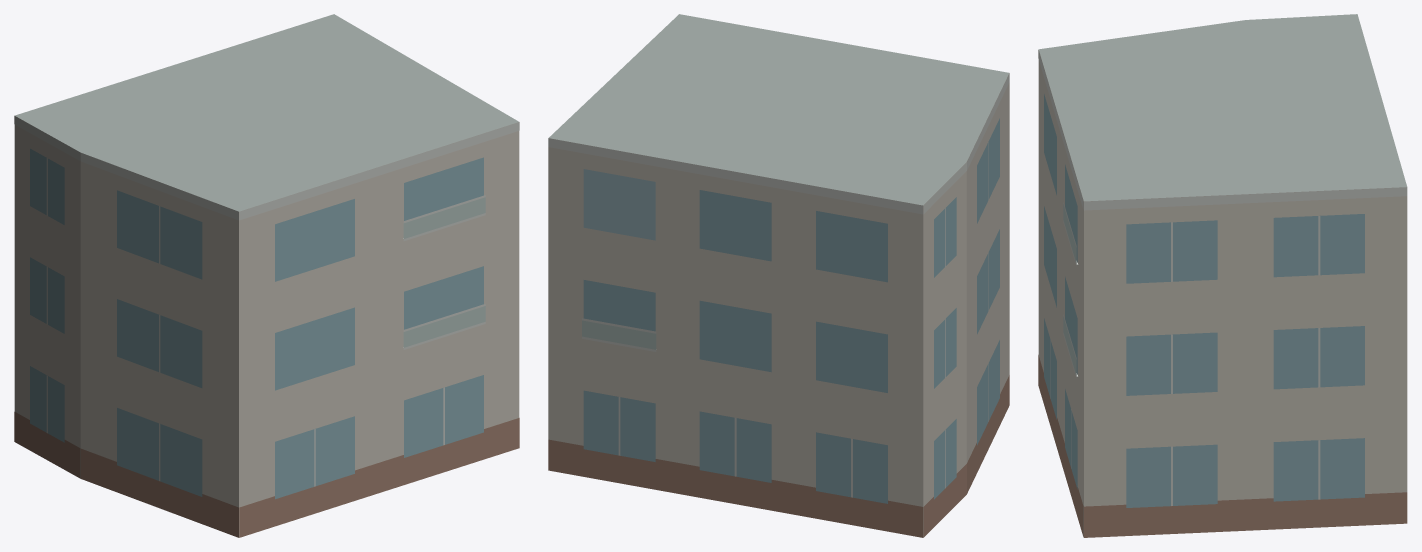
File: survey-upis-32803334.glb
3 views of the same model, side by side, from view 1: azimuth 30°, elevation 25°; view 2: azimuth 150°, elevation 25°; view 3: azimuth 270°, elevation 25° (orthographic). The views are drawn at different scales.
Visible parts, largest first — view 1: survey-upis-32803334.tmp; view 2: survey-upis-32803334.tmp; view 3: survey-upis-32803334.tmp.
Part boxes in pixels (x1,y1,x2,y2): survey-upis-32803334.tmp: [14, 14, 519, 537]; survey-upis-32803334.tmp: [548, 14, 1009, 537]; survey-upis-32803334.tmp: [1038, 14, 1407, 537].
Size of the model in its own units: 10.76 by 9 by 8.95.
